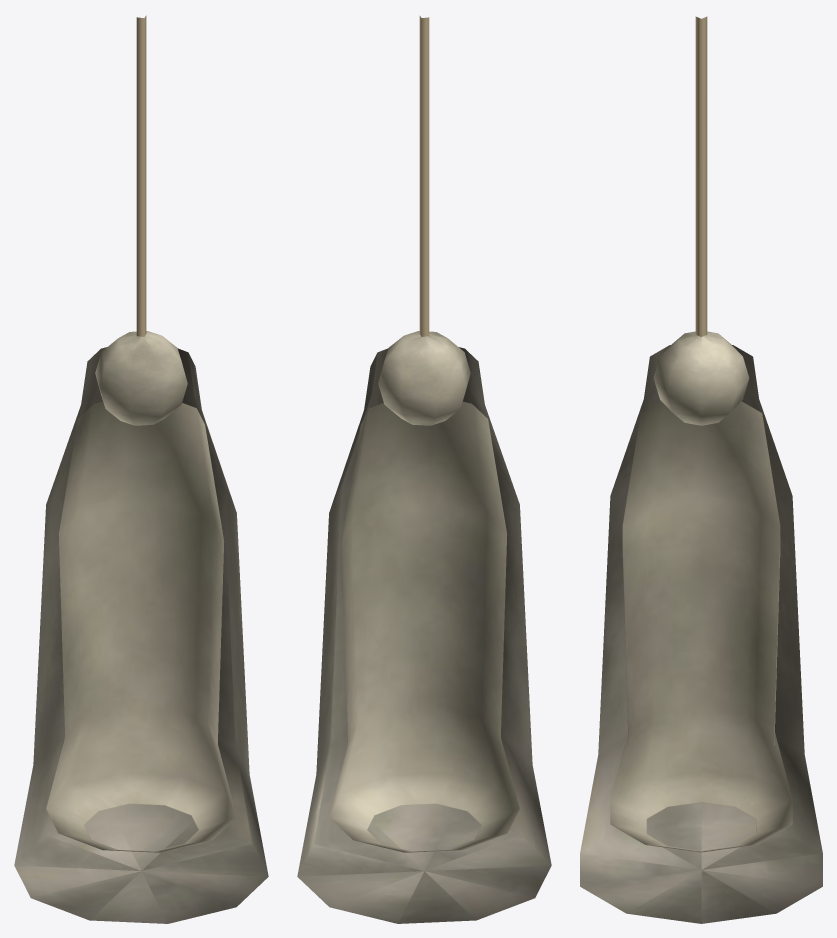
The model's file is shroud.glb.
The picture shows the model from 3 angles, left to right: view 1: azimuth 30°, elevation 25°; view 2: azimuth 150°, elevation 25°; view 3: azimuth 270°, elevation 25°; orthographic projection.
Visible parts, largest first — view 1: shroud; view 2: shroud; view 3: shroud.
Boxes of the visible parts, x1,y1,x2,y2 form: shroud: (14, 15, 268, 923); shroud: (297, 15, 551, 923); shroud: (580, 16, 822, 923).
Bounding box in the file's own units: 0.8 × 2.95 × 0.7608.
3 materials, 2 textured.
